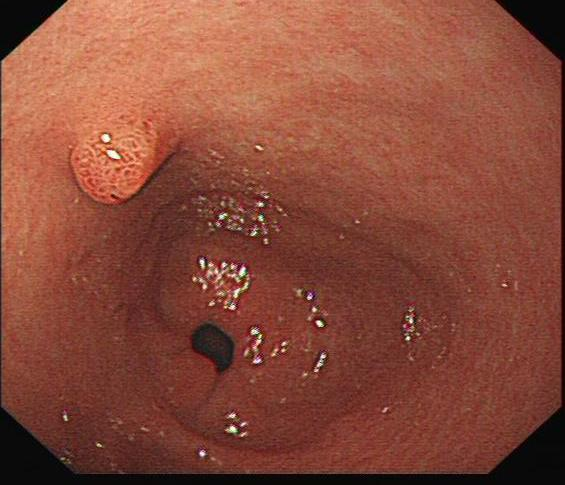Polyp: (66, 112, 174, 212)
